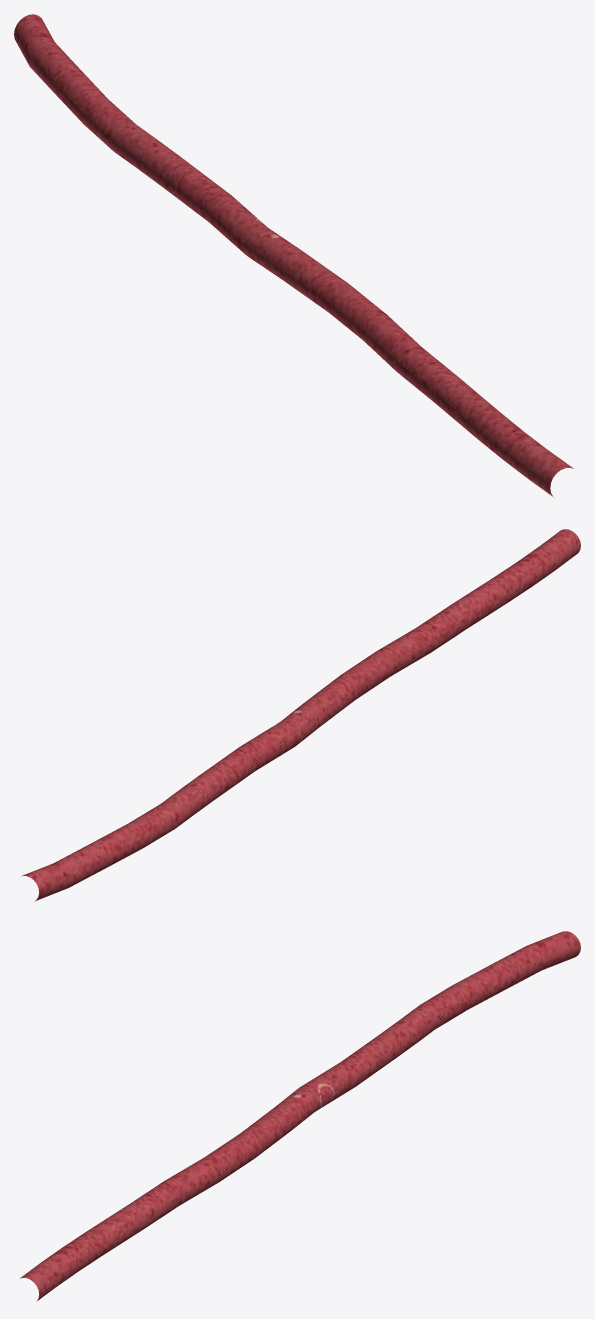
Rendered from Vena_Cava.glb.
3 views of the same model, one above another, from view 1: azimuth 30°, elevation 25°; view 2: azimuth 150°, elevation 25°; view 3: azimuth 330°, elevation 25° (orthographic). The views are drawn at different scales.
Visible parts, largest first — view 1: vena_cava; view 2: vena_cava; view 3: vena_cava.
Part boxes in pixels (x1=…): vena_cava: x1=14, y1=14, x2=573, y2=496; vena_cava: x1=21, y1=529, x2=580, y2=901; vena_cava: x1=20, y1=931, x2=580, y2=1301.
Size of the model in its own units: 12.52 by 4.12 by 139.
1 material, 1 textured.
